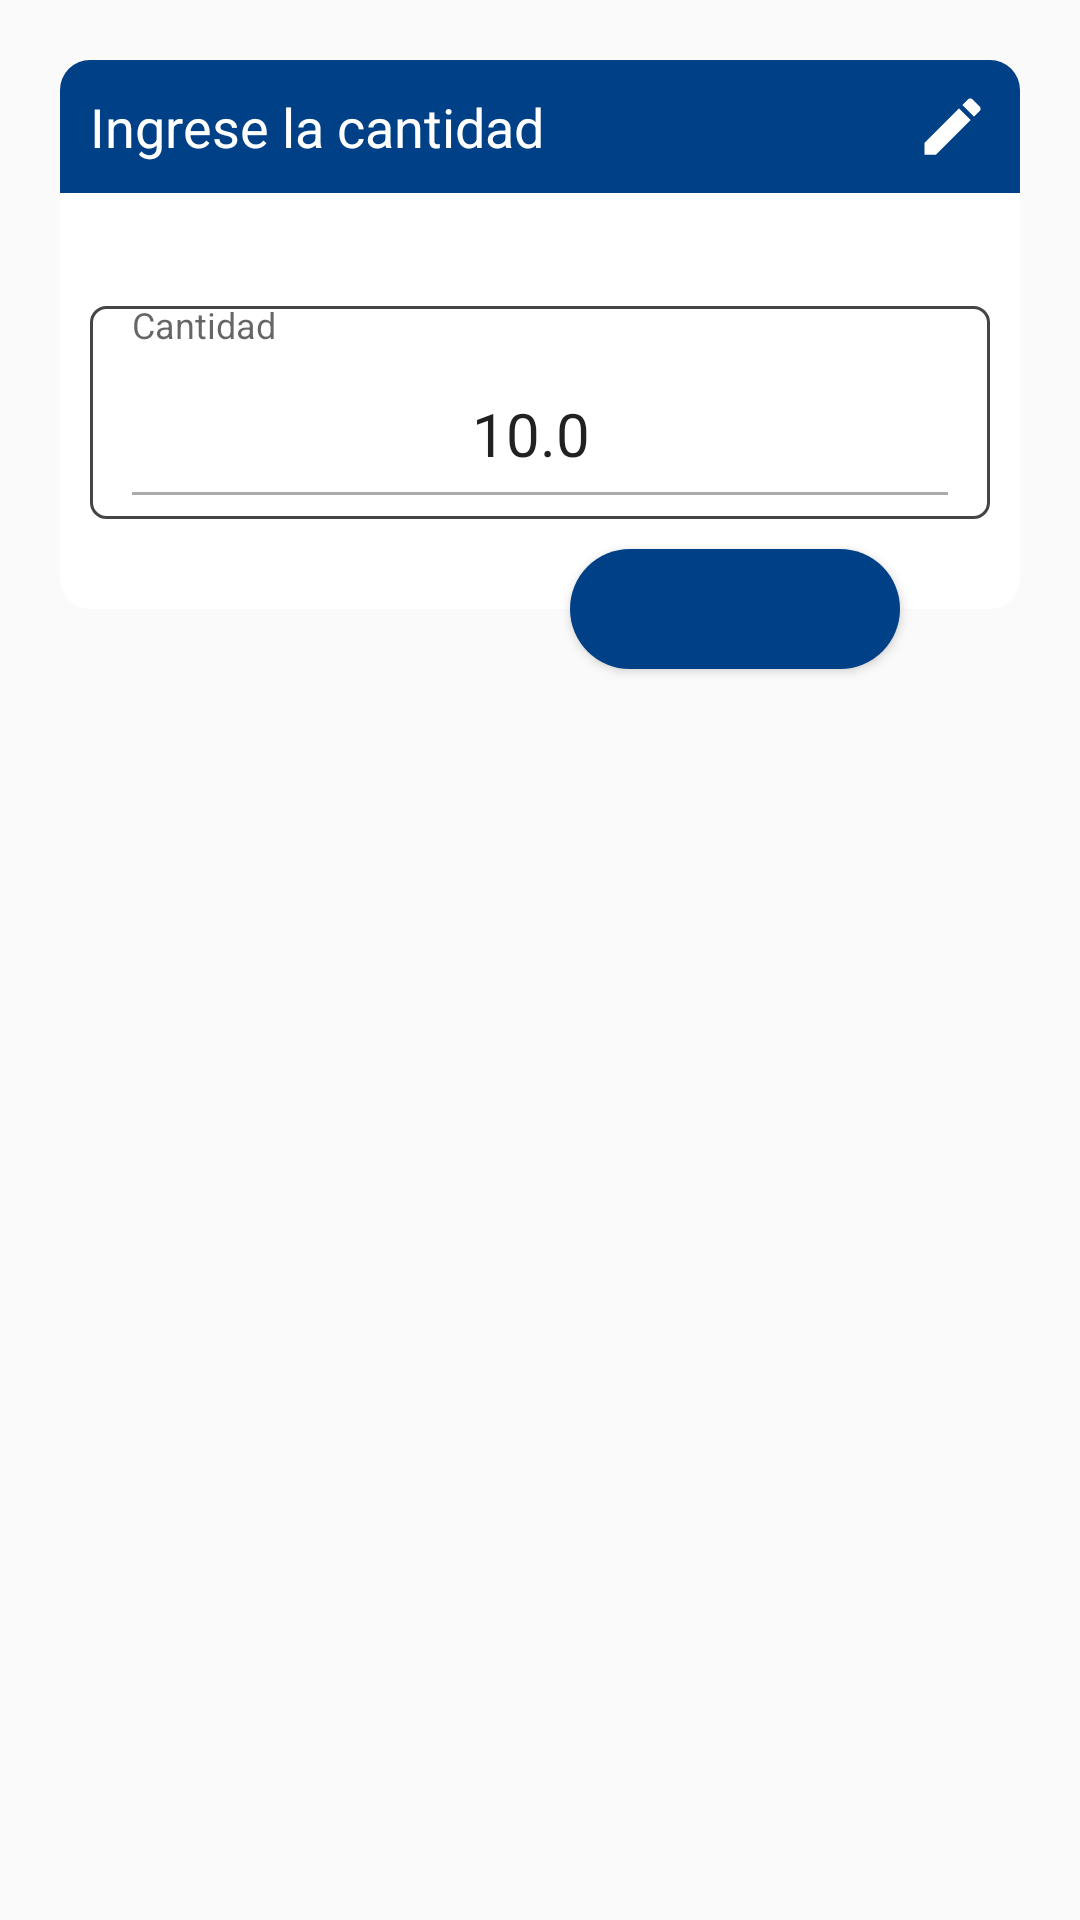

Icons on this 1080px x 1920px Android screen, each with the point to tap as (x,y):
edit: (952,126)
